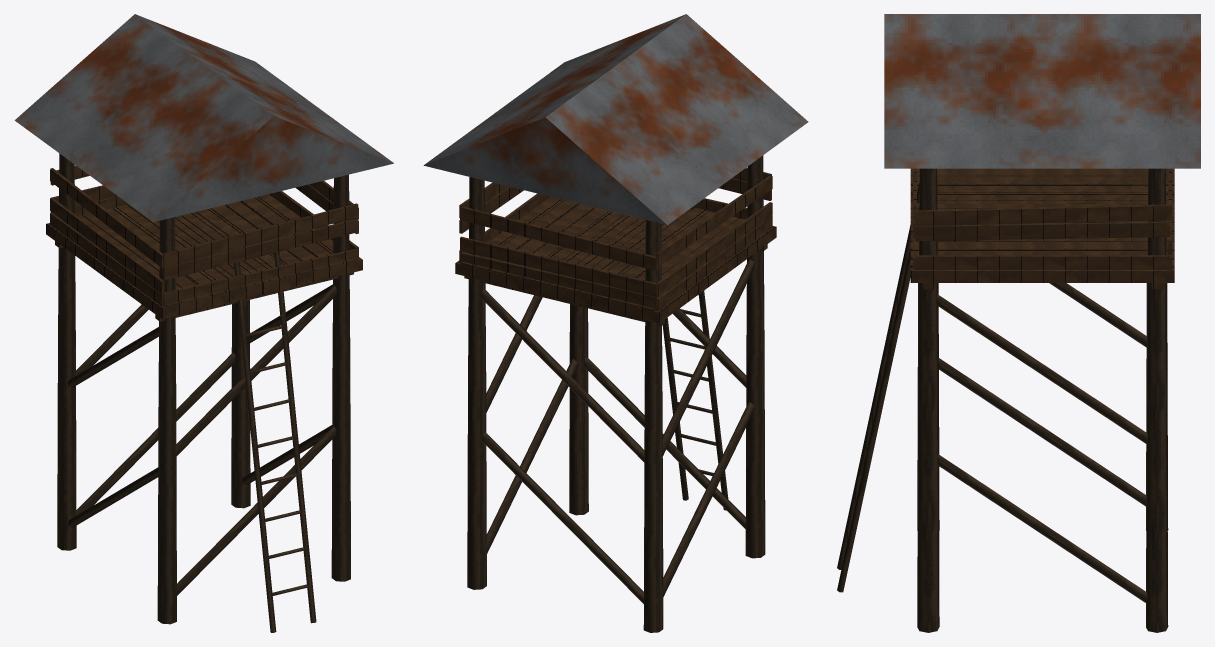
Rendered from ext_watchtower.glb.
3 views of the same model, side by side, from view 1: azimuth 30°, elevation 25°; view 2: azimuth 150°, elevation 25°; view 3: azimuth 270°, elevation 25° (orthographic). The views are drawn at different scales.
Visible parts, largest first — view 1: detail, frame-col; view 2: detail, frame-col; view 3: detail, frame-col.
Boxes of the visible parts, <box> form: detail: <box>14,14,393,632</box>; frame-col: <box>46,153,362,624</box>; detail: <box>423,14,808,603</box>; frame-col: <box>455,155,776,632</box>; detail: <box>837,14,1200,603</box>; frame-col: <box>910,168,1174,632</box>.
Size of the model in its own units: 3.6 by 7.11 by 4.14.
Materials: 4 (4 with a texture image).
